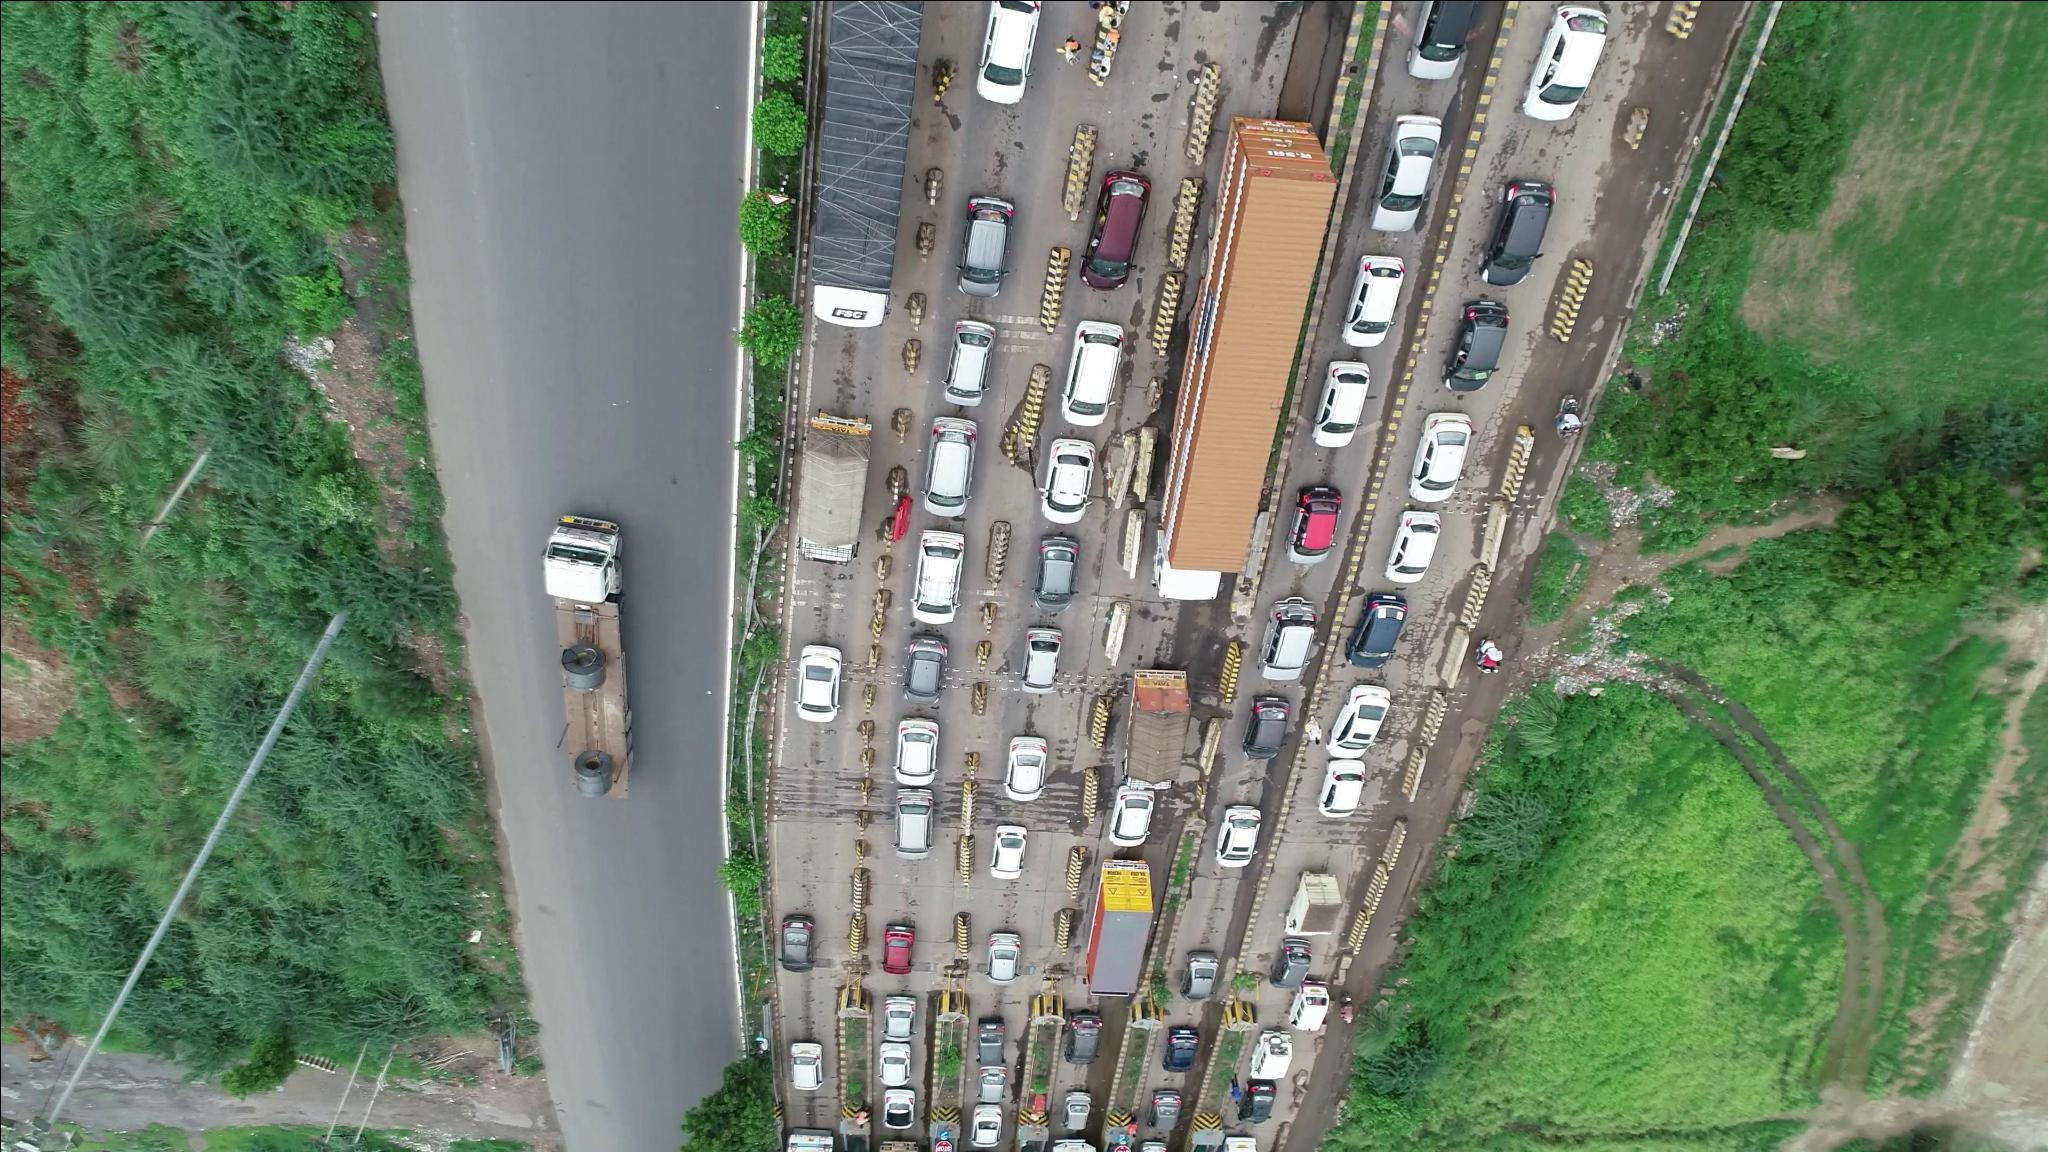Cracks: (1405, 574, 1454, 677)
